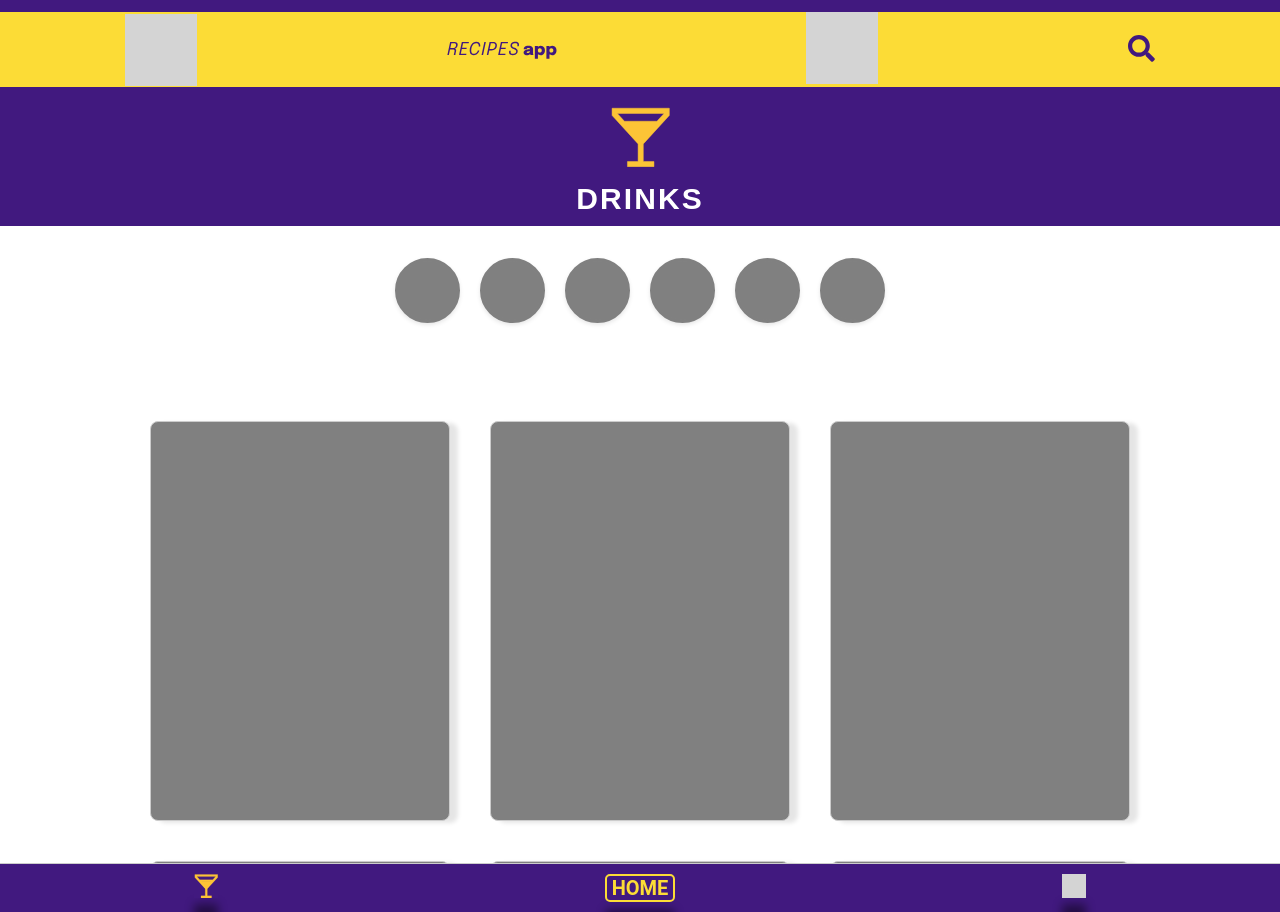
Test: Testes do componente Header › Verifica se o botão search funciona devidamente
Click the button with test id "search-top-btn" at (1142, 50), box [1128,34,1155,64]
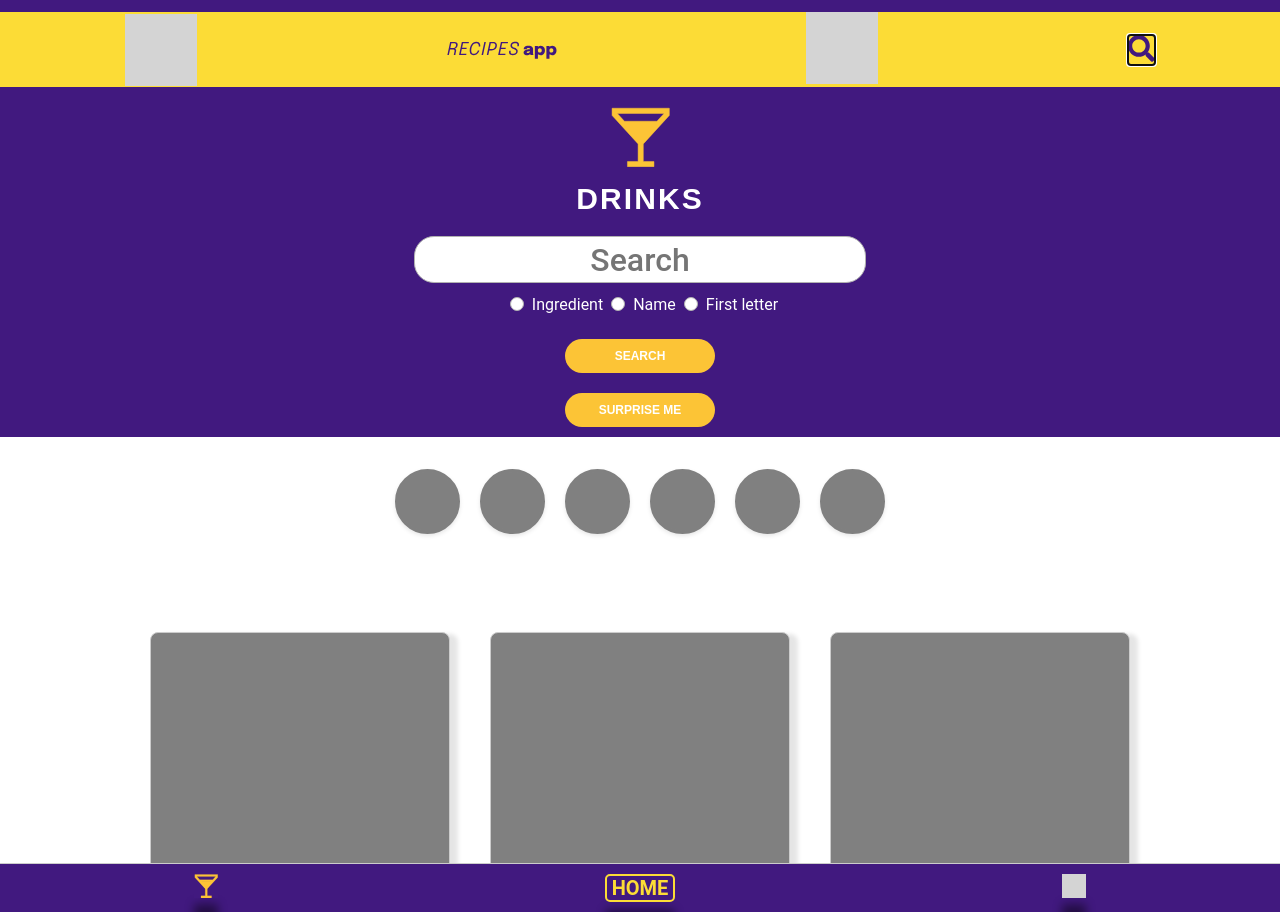
Now the radio button with test id "ingredient-search-radio" is shown, box [502,295,603,314]
Now the radio button with test id "name-search-radio" is shown, box [603,295,676,314]
Now the radio button with test id "first-letter-search-radio" is shown, box [676,295,778,314]
